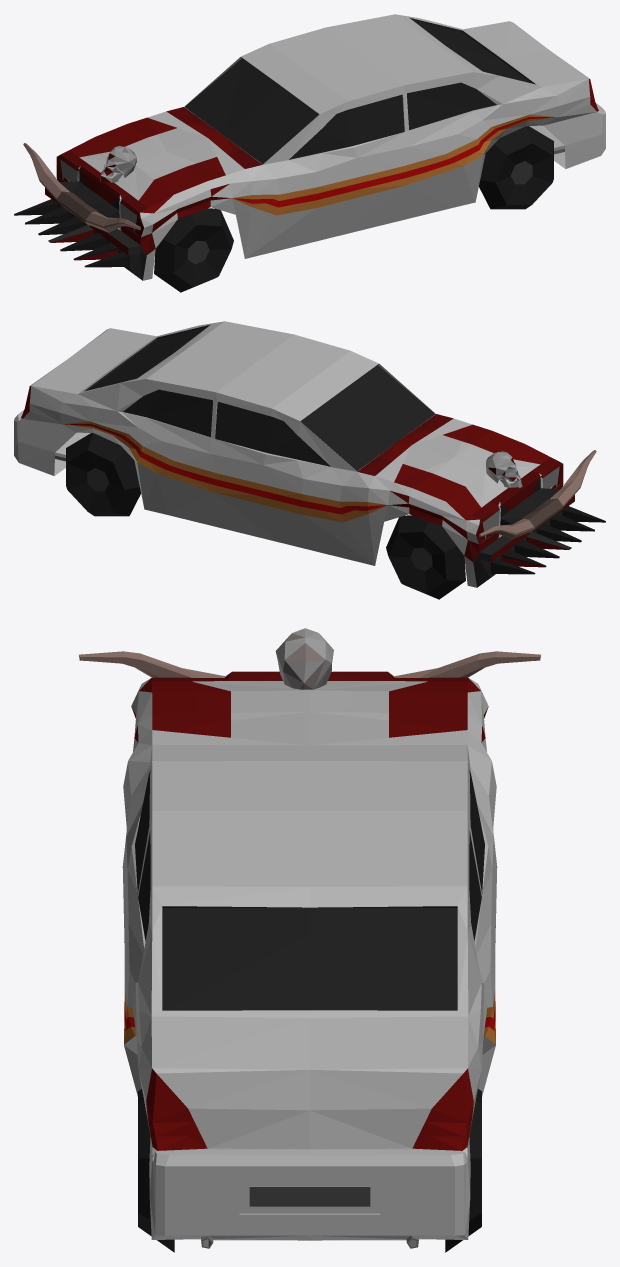
Rendered from Model_Chrysler.fbx.
3 renders of one model, top to bottom at view 1: azimuth 30°, elevation 25°; view 2: azimuth 150°, elevation 25°; view 3: azimuth 270°, elevation 25°, orthographic. The views are drawn at different scales.
Parts seen in each view (by area): view 1: Cube; view 2: Cube; view 3: Cube.
Part boxes in pixels (left/top/right/bottom): Cube: left=14, top=14, right=605, bottom=292; Cube: left=14, top=321, right=605, bottom=599; Cube: left=79, top=628, right=540, bottom=1252.
Bounding box in the file's own units: 170 × 129 × 443.
